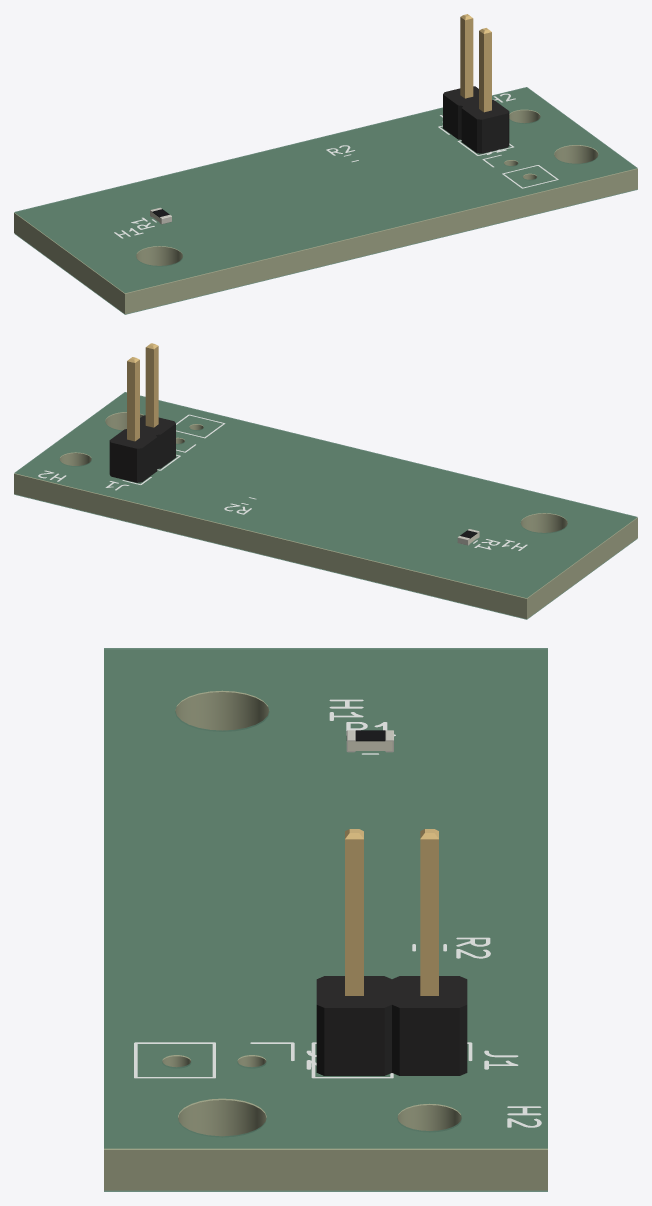
File: document.glb
The picture shows the model from 3 angles, top to bottom: view 1: azimuth 30°, elevation 25°; view 2: azimuth 150°, elevation 25°; view 3: azimuth 270°, elevation 25°; orthographic projection. The views are drawn at different scales.
Parts seen in each view (by area): view 1: =>[0:1:1:12], =>[0:1:1:10], =>[0:1:1:3], =>[0:1:1:8], =>[0:1:1:11]; view 2: =>[0:1:1:12], =>[0:1:1:10], =>[0:1:1:3], =>[0:1:1:8], =>[0:1:1:11]; view 3: =>[0:1:1:12], =>[0:1:1:10], =>[0:1:1:3], =>[0:1:1:8], =>[0:1:1:5], =>[0:1:1:11].
Part boxes in pixels (box(x1,y1,x2,y2)): =>[0:1:1:12]: box(14, 88, 637, 314); =>[0:1:1:10]: box(14, 87, 637, 293); =>[0:1:1:3]: box(443, 14, 509, 153); =>[0:1:1:8]: box(114, 93, 558, 238); =>[0:1:1:11]: box(14, 189, 637, 314); =>[0:1:1:12]: box(14, 393, 637, 618); =>[0:1:1:10]: box(14, 392, 637, 597); =>[0:1:1:3]: box(109, 343, 175, 482); =>[0:1:1:8]: box(38, 414, 527, 550); =>[0:1:1:11]: box(14, 494, 637, 619); =>[0:1:1:12]: box(104, 650, 547, 1190); =>[0:1:1:10]: box(104, 648, 547, 1148); =>[0:1:1:3]: box(316, 829, 467, 1075); =>[0:1:1:8]: box(134, 699, 541, 1127); =>[0:1:1:5]: box(346, 730, 393, 752); =>[0:1:1:11]: box(104, 1190, 547, 1191).
Bounding box in the file's own units: 0.04 × 0.0115 × 0.015.
